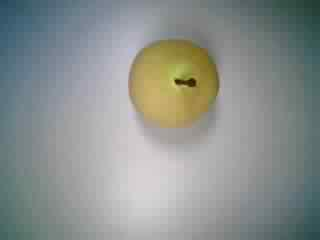pear: (110, 28, 229, 134)
